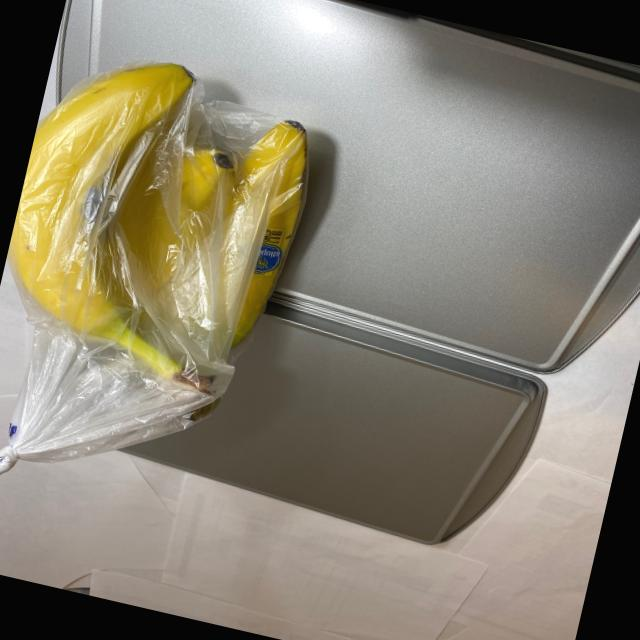banana: (0, 31, 342, 445)
